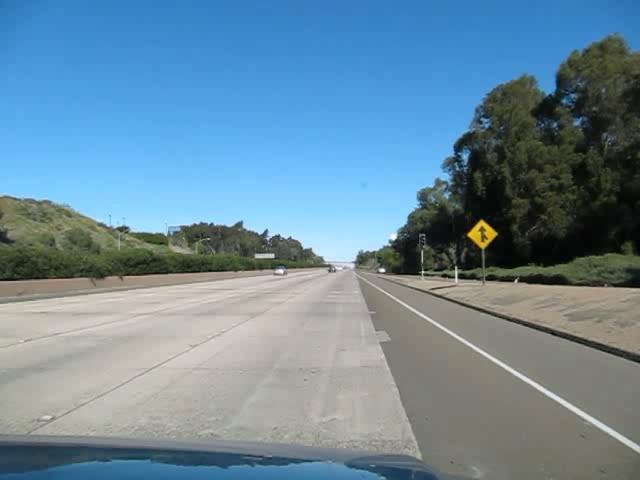merge: (466, 219, 497, 249)
